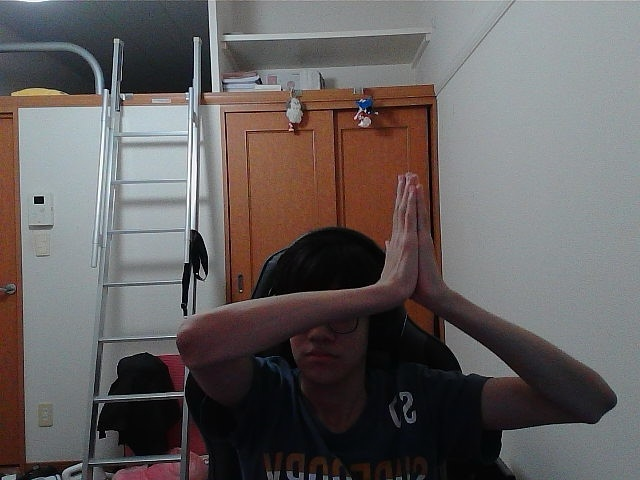pray: (389, 182, 414, 284)
